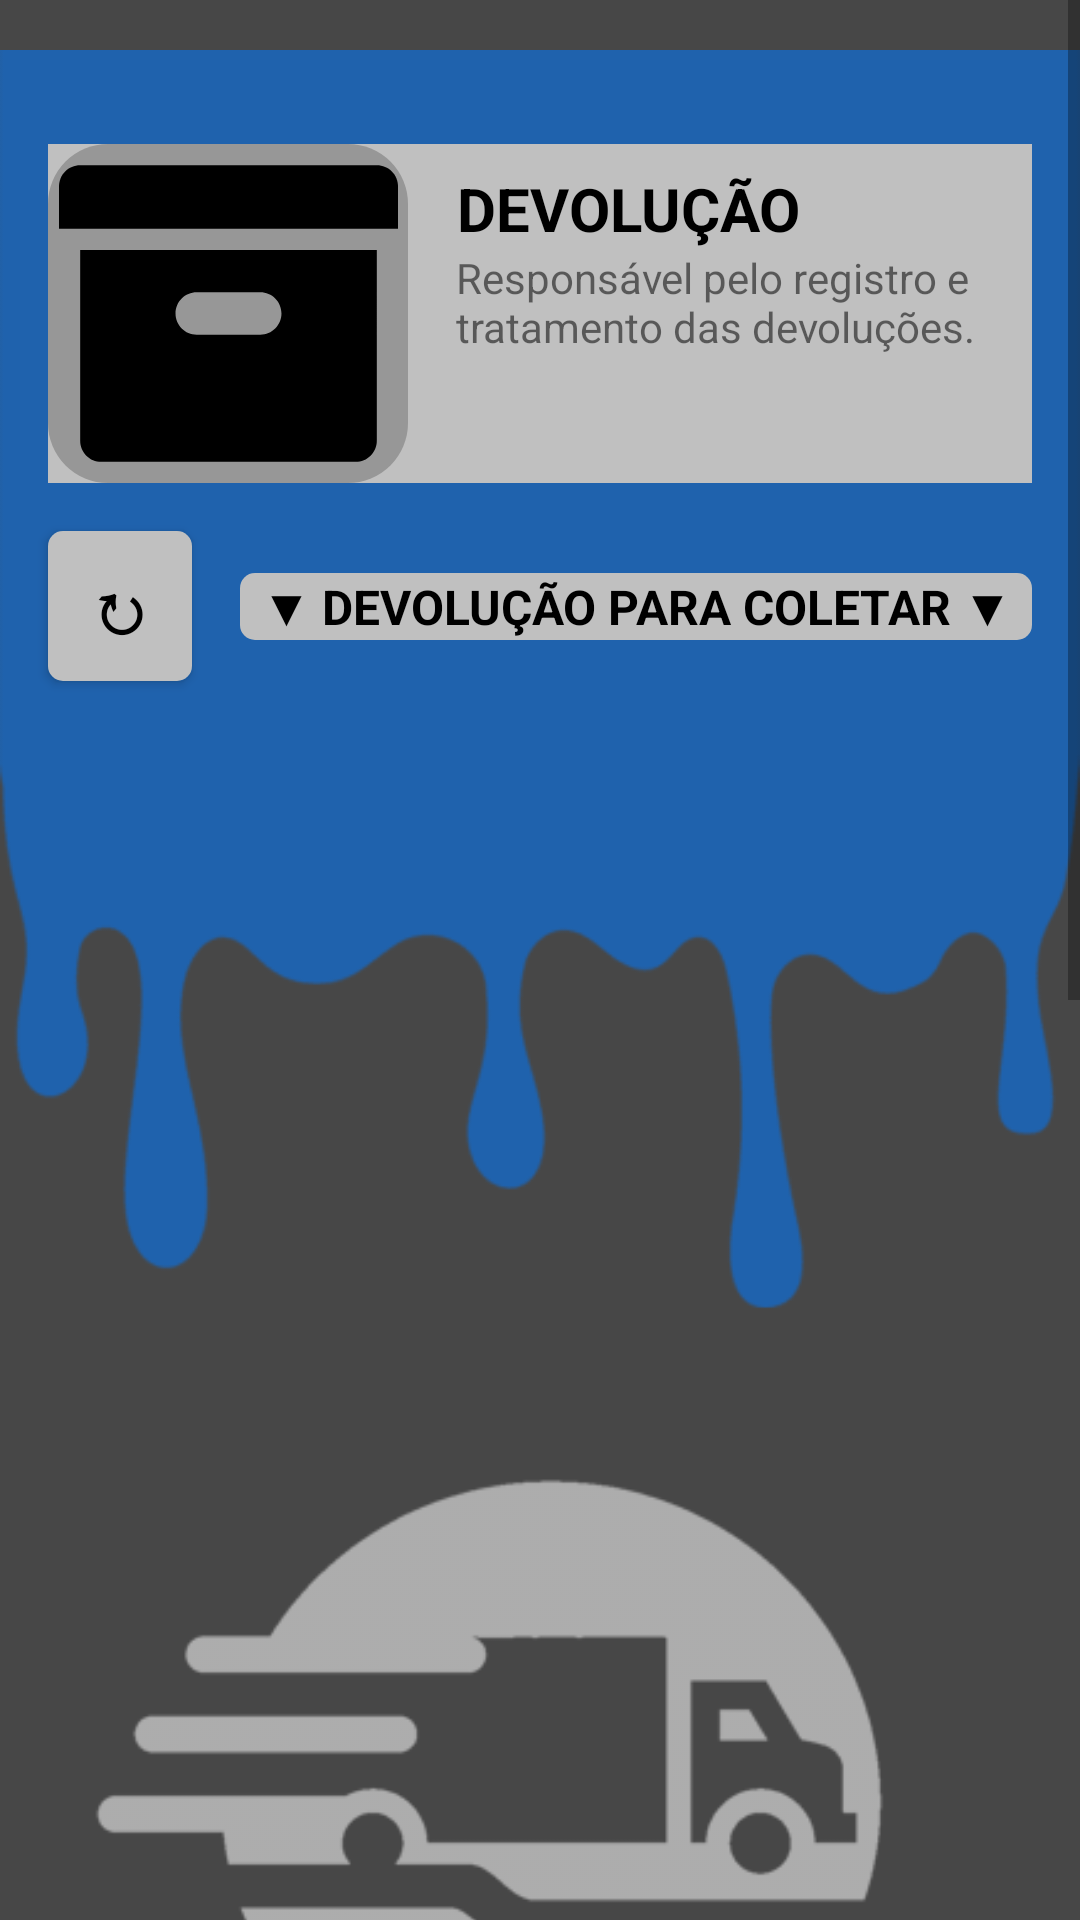

Where icons sit on this 1080*1920 app screen, as (x1, y1, x2, y2):
box: (48, 144, 408, 483)
